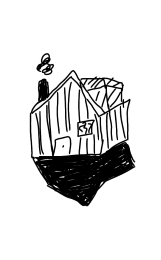closed_window: (75, 118, 97, 139)
door: (52, 132, 77, 161)
roof: (31, 68, 129, 120)
shadow: (26, 138, 138, 210)
smoking_chimney: (27, 47, 59, 103)
wall: (27, 67, 106, 158)
